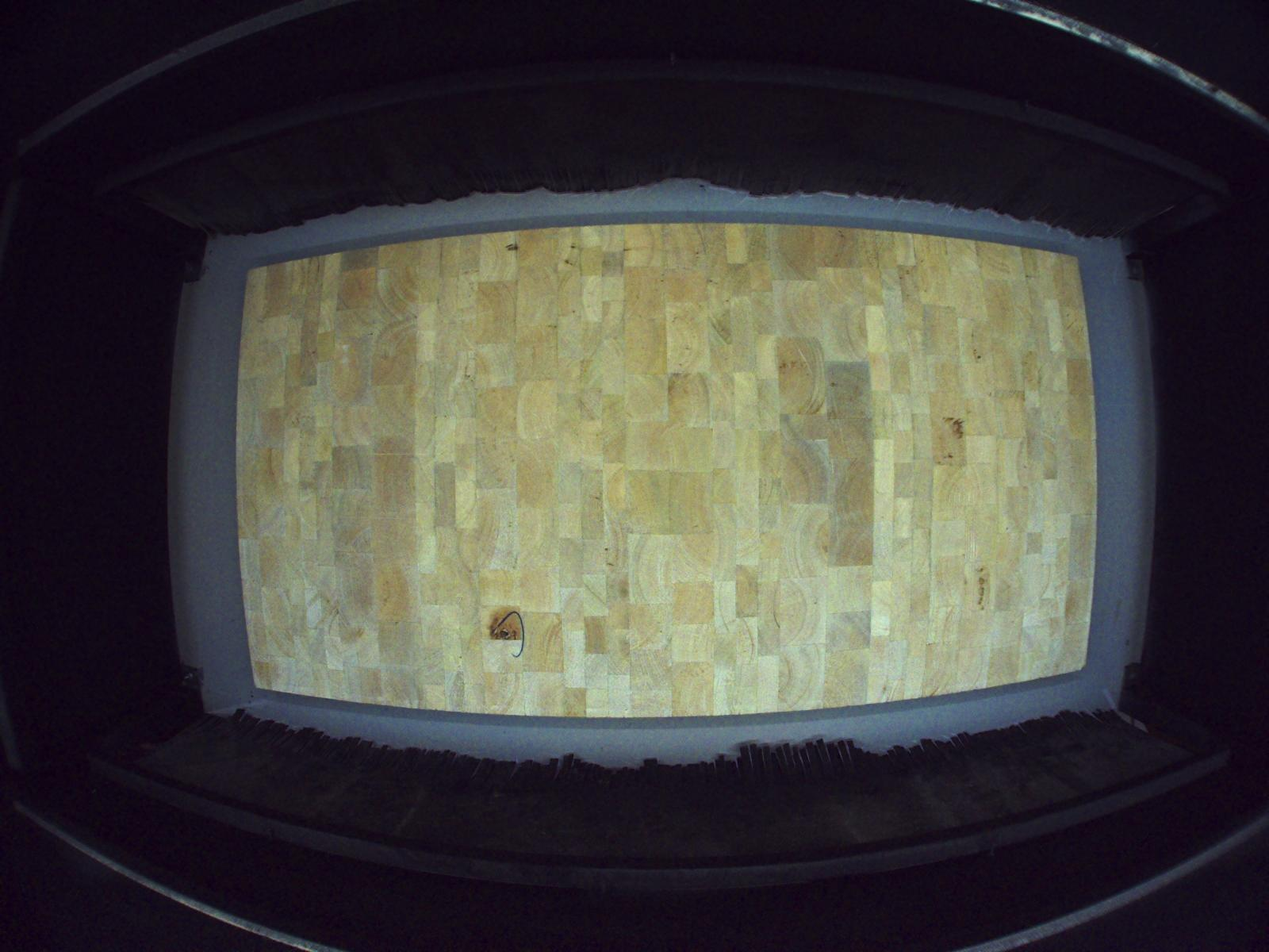nudillo: (485, 614, 523, 642)
